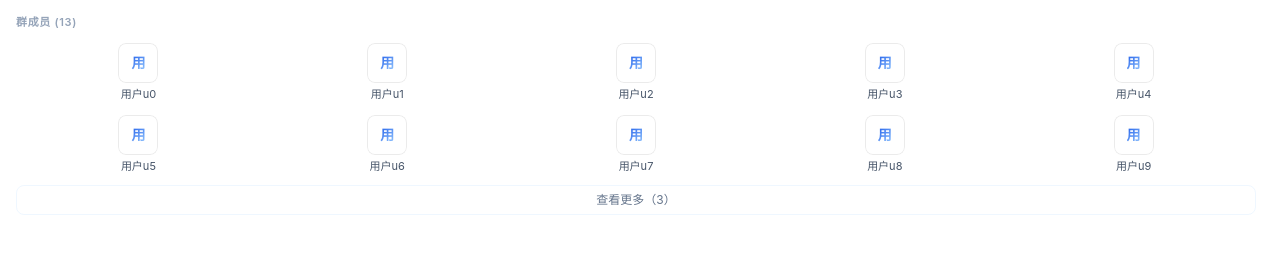
Test case: MemberGrid — 群成员头像网格 › 点「查看更多」展开全部，按钮随之消失
This screenshot has width=1273, height=260.
Click the button "查看更多（3）" at (636, 200), box [16,185,1256,215]
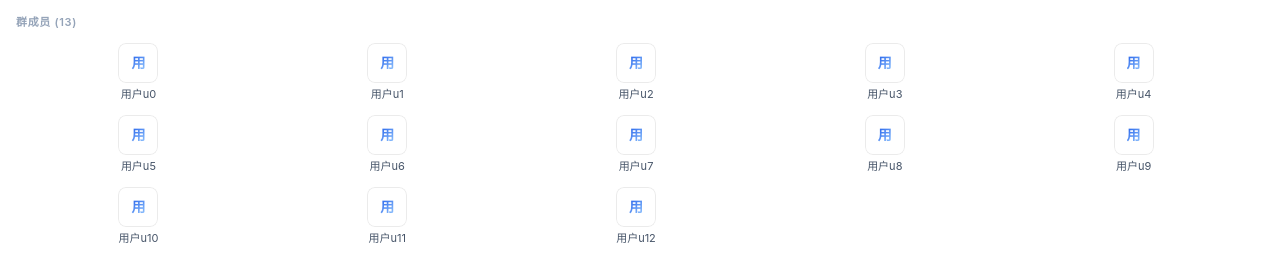
expect the number of buttons with class "member-grid-item" is 13: met
expect the button "查看更多" is gone: met
